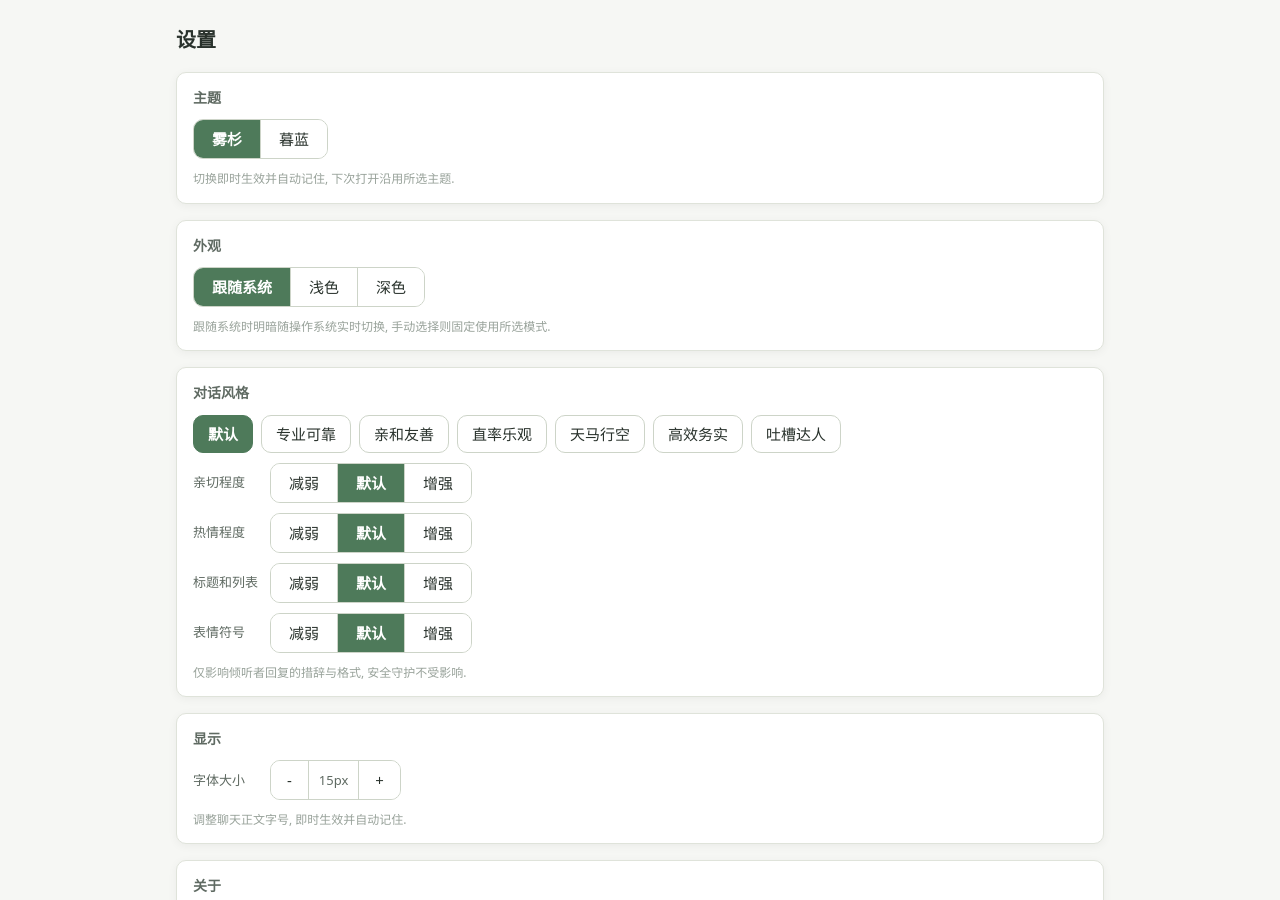
SettingsView 显示-字体大小 (Task 4) › 步进: 点 + 变 16px, 写 soul.chatFont 并更新 --fs-chat 内联令牌
Click the button named "增大字体" at (380, 780), box [359, 761, 400, 799]
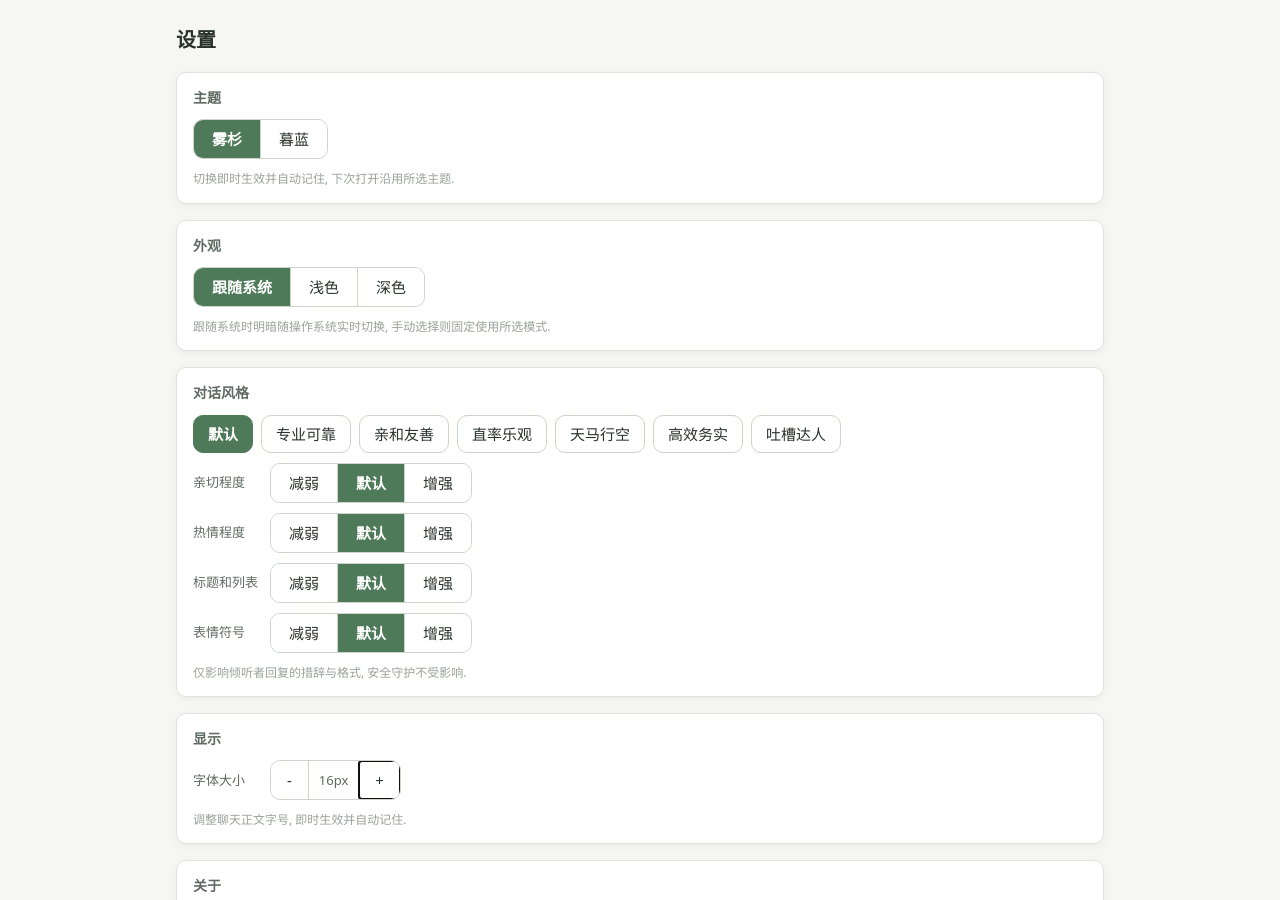
expect the text "16px" is shown: met, box [308, 761, 359, 799]
Click the button named "减小字体" at (289, 780), box [271, 761, 308, 799]
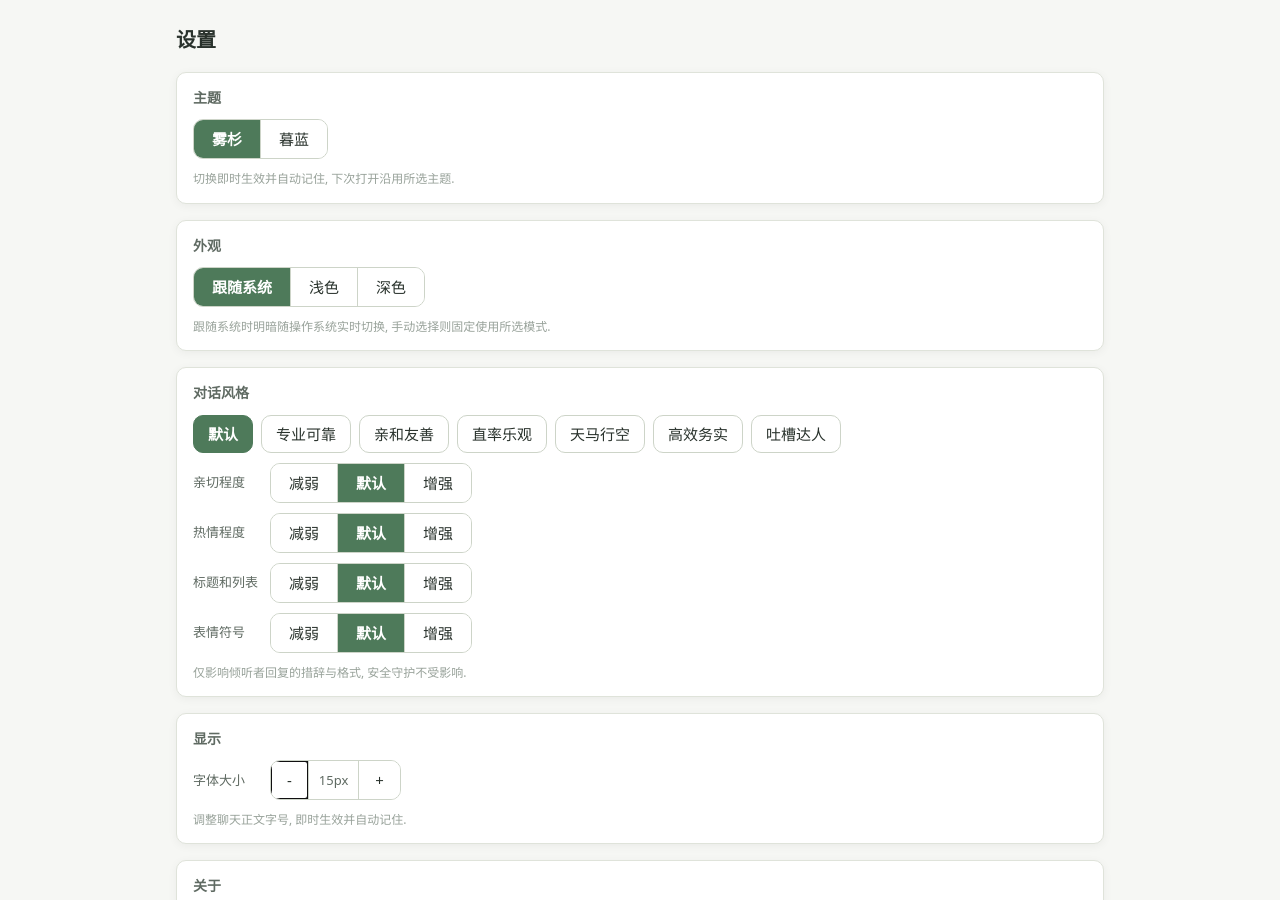
expect the text "15px" is shown: met, box [308, 761, 359, 799]
